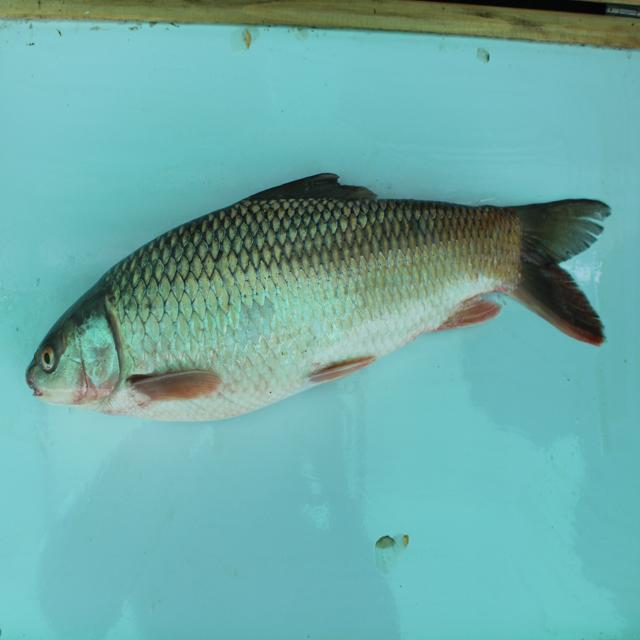Mori: (19, 163, 623, 464)
